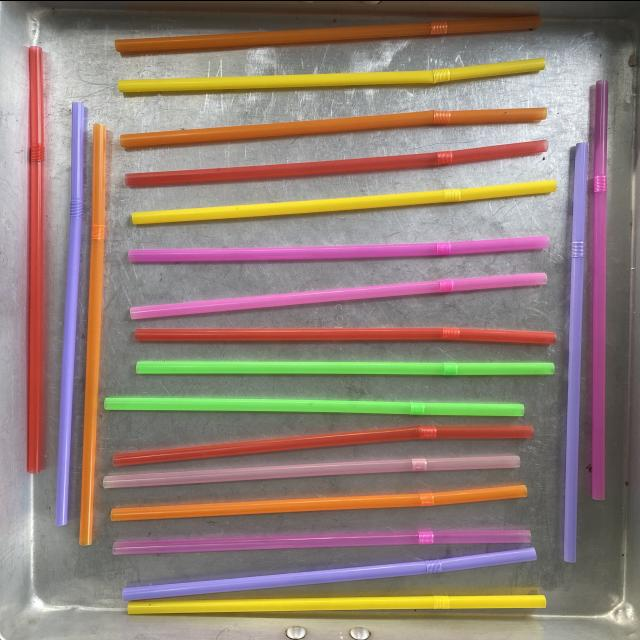plastik: (122, 547, 537, 600), (125, 138, 548, 186), (131, 272, 547, 318), (132, 179, 557, 224), (120, 107, 547, 147), (113, 425, 534, 465), (115, 14, 541, 52), (118, 57, 546, 92), (111, 484, 527, 520), (103, 454, 520, 488), (55, 101, 84, 524), (79, 123, 107, 544), (128, 235, 549, 262), (563, 141, 588, 562), (112, 529, 530, 554), (104, 396, 524, 416), (127, 593, 546, 613), (27, 45, 44, 473), (591, 79, 608, 499), (135, 327, 556, 343), (137, 360, 554, 375)
